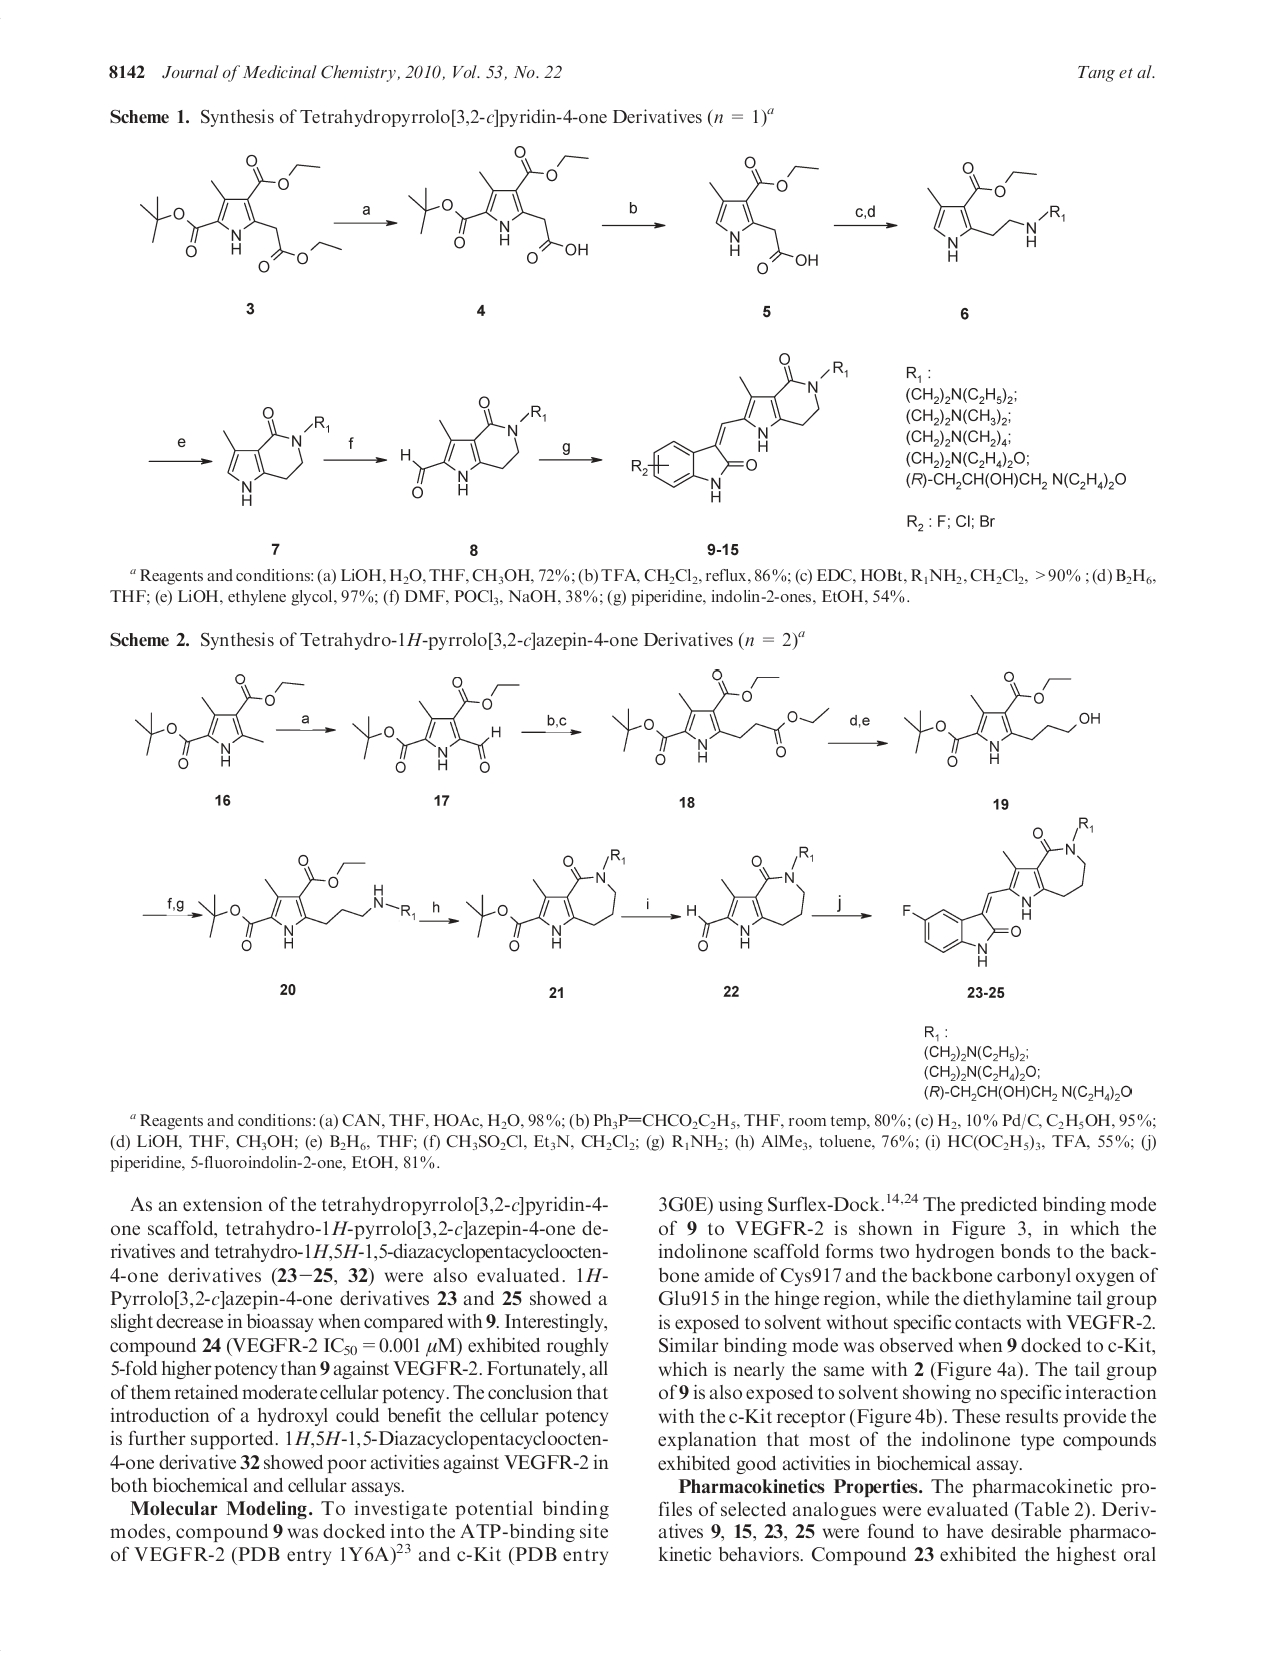exist_molecular: (626, 351, 848, 503), (902, 815, 1096, 969), (136, 156, 343, 273), (411, 141, 594, 265), (195, 852, 418, 954), (904, 665, 1106, 767), (610, 669, 828, 763), (133, 670, 307, 770), (465, 844, 628, 951), (350, 674, 523, 774), (395, 395, 547, 500), (923, 162, 1068, 265), (686, 843, 815, 954), (707, 158, 826, 277), (223, 407, 331, 505)
